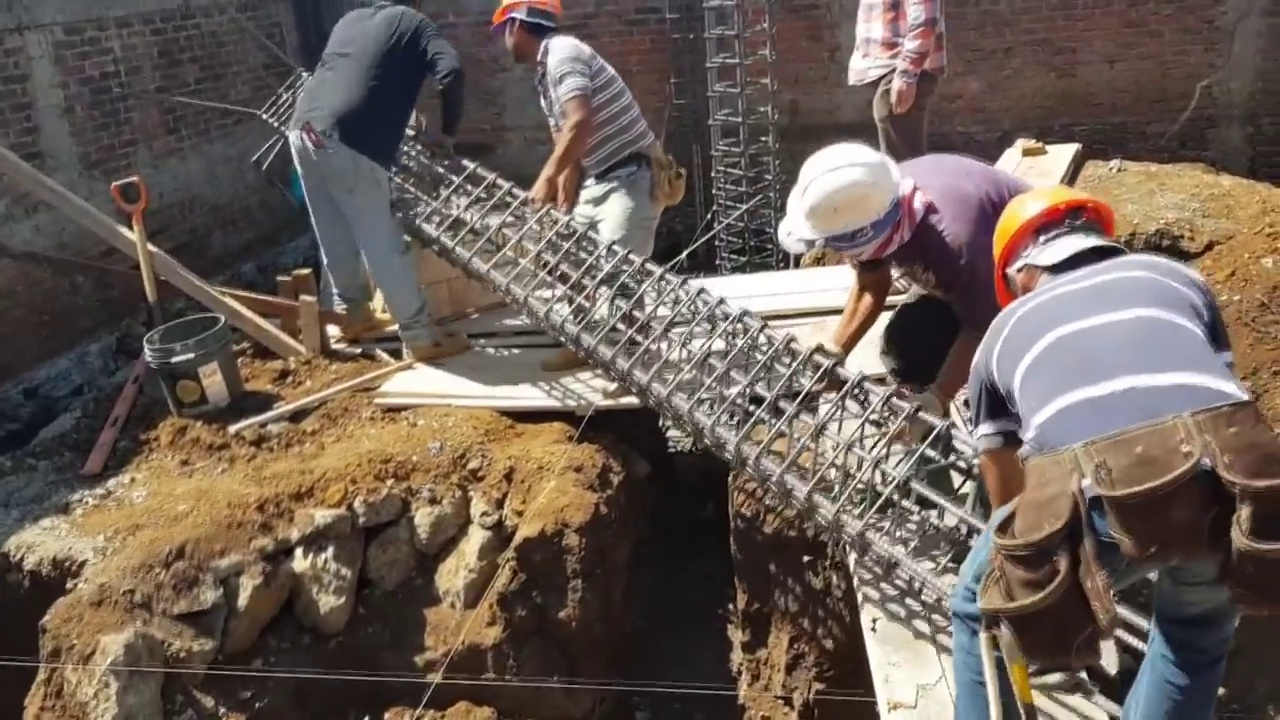helmet: (778, 132, 906, 252), (994, 186, 1120, 305)
helmet-on: (777, 132, 920, 274), (994, 186, 1135, 308), (482, 1, 560, 59)
person: (926, 187, 1254, 720), (280, 0, 472, 382), (779, 133, 1026, 414), (490, 0, 664, 381), (848, 0, 955, 166)
